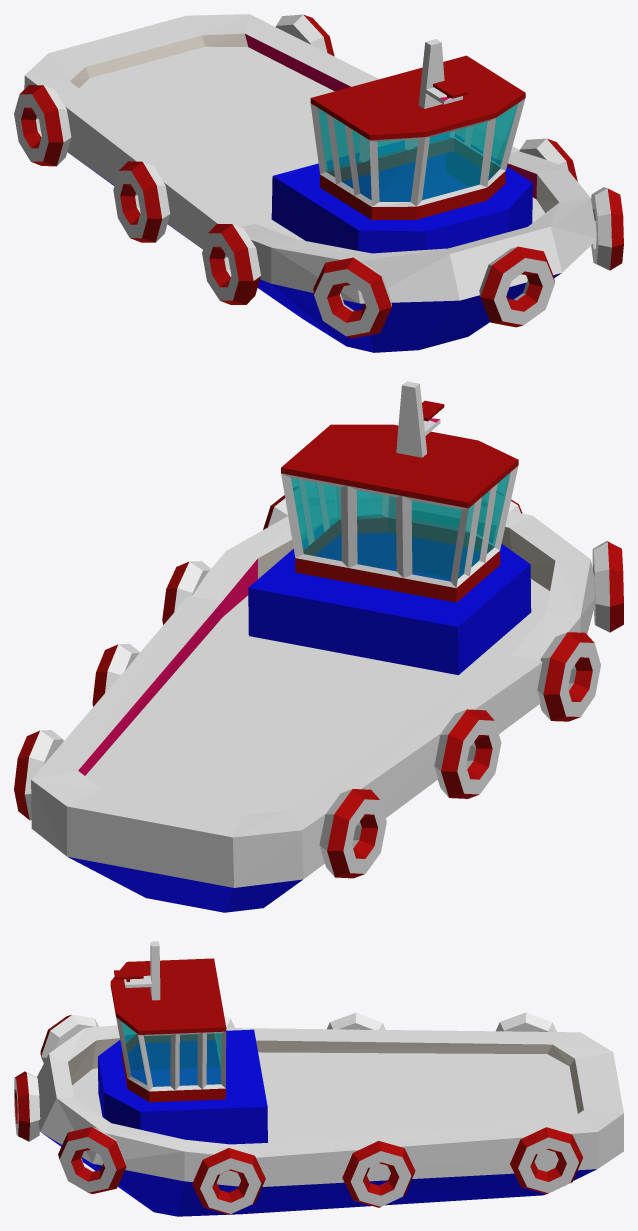
Rendered from FishermanShip.fbx.
3 views of the same model, one above another, from view 1: azimuth 30°, elevation 25°; view 2: azimuth 150°, elevation 25°; view 3: azimuth 270°, elevation 25° (orthographic). The views are drawn at different scales.
Visible parts, largest first — view 1: Boat, pTorus5, pTorus2, pTorus3, pTorus1, pTorus4; view 2: Boat, pTorus2, pTorus4, pTorus3, pTorus5; view 3: Boat, pTorus5, pTorus2, pTorus4, pTorus3, pTorus1.
Boxes of the visible parts, x1=… form: Boat: x1=24, y1=14, x2=596, y2=352; pTorus5: x1=313, y1=187, x2=623, y2=338; pTorus2: x1=14, y1=14, x2=334, y2=166; pTorus3: x1=202, y1=138, x2=577, y2=304; pTorus1: x1=479, y1=246, x2=554, y2=327; pTorus4: x1=113, y1=161, x2=170, y2=242; Boat: x1=31, y1=381, x2=594, y2=912; pTorus2: x1=14, y1=730, x2=386, y2=878; pTorus4: x1=92, y1=643, x2=501, y2=798; pTorus3: x1=162, y1=561, x2=600, y2=721; pTorus5: x1=263, y1=495, x2=623, y2=632; Boat: x1=37, y1=941, x2=623, y2=1216; pTorus5: x1=40, y1=1014, x2=126, y2=1193; pTorus2: x1=496, y1=1012, x2=582, y2=1194; pTorus4: x1=327, y1=1012, x2=415, y2=1207; pTorus3: x1=192, y1=1016, x2=265, y2=1214; pTorus1: x1=14, y1=1071, x2=40, y2=1141.
Bounding box in the file's own units: 7.85 × 6.14 × 13.87.
